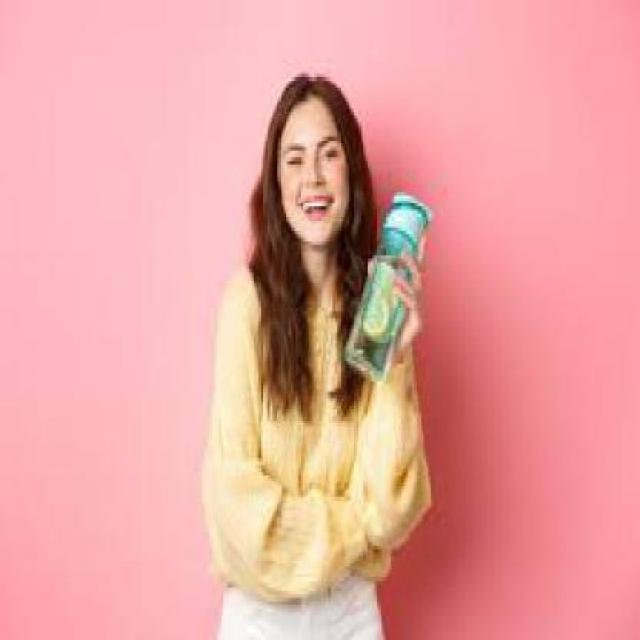Drinking: (356, 192, 435, 385)
